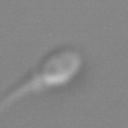abnormal: (1, 70, 46, 114)
